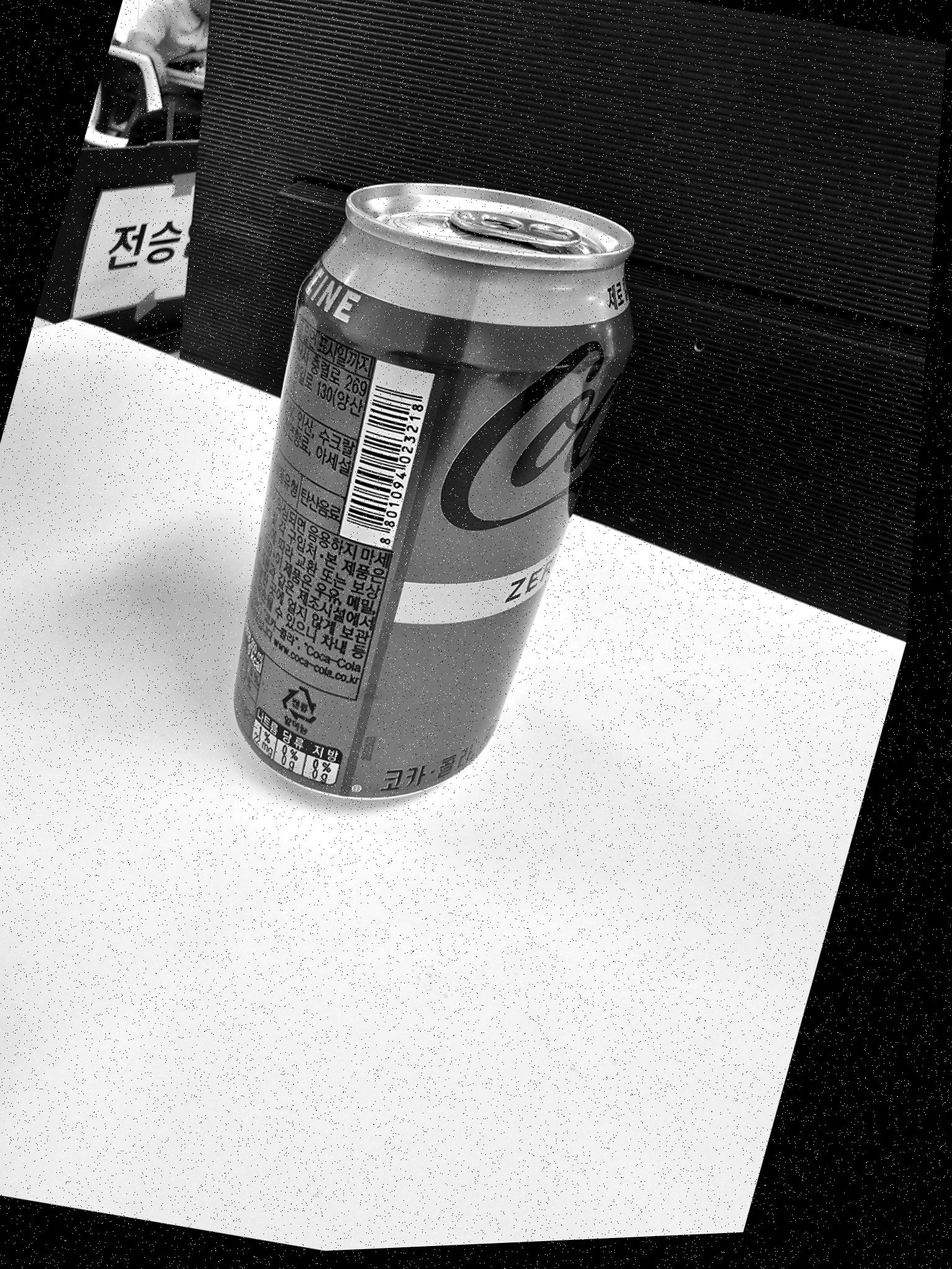can_coke_decaf: (234, 183, 633, 799)
